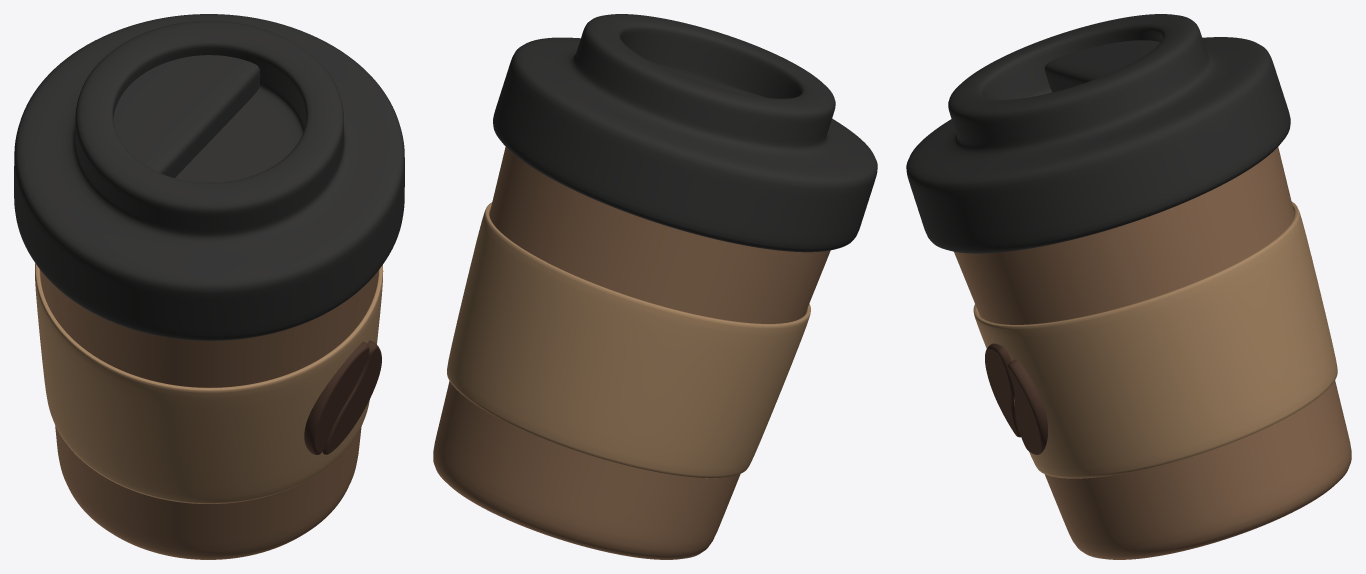
The model's file is coffee-cup-with-lid.glb.
3 views of the same model, side by side, from view 1: azimuth 30°, elevation 25°; view 2: azimuth 150°, elevation 25°; view 3: azimuth 270°, elevation 25° (orthographic).
Parts seen in each view (by area): view 1: Cylinder.003, Cylinder.005, Cylinder.004, Cube.015, Curve.008; view 2: Cylinder.003, Cylinder.005, Cylinder.004; view 3: Cylinder.003, Cylinder.004, Cylinder.005, Curve.008, Cube.015.
Part boxes in pixels (x1,y1,x2,y2): Cylinder.003: [14, 14, 404, 340]; Cylinder.005: [35, 263, 383, 503]; Cylinder.004: [40, 270, 377, 559]; Cube.015: [113, 55, 260, 177]; Curve.008: [304, 340, 381, 454]; Cylinder.003: [493, 14, 877, 252]; Cylinder.005: [447, 202, 810, 478]; Cylinder.004: [433, 147, 830, 559]; Cylinder.003: [906, 14, 1290, 253]; Cylinder.004: [954, 147, 1351, 559]; Cylinder.005: [973, 202, 1337, 478]; Curve.008: [985, 343, 1047, 454]; Cube.015: [1044, 40, 1160, 92].
Bounding box in the file's own units: 5 × 6.75 × 5.54.
